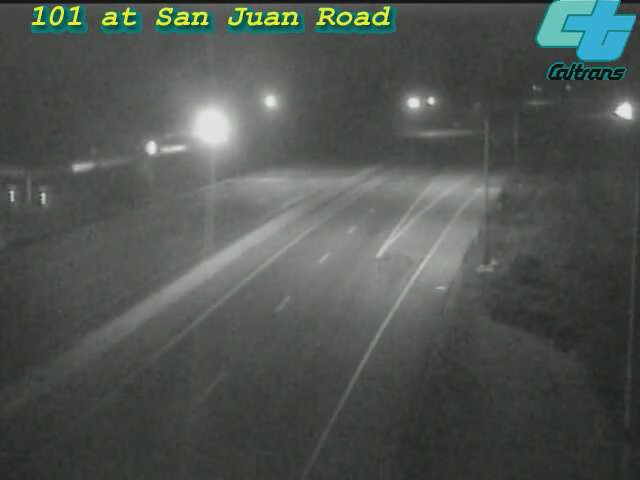vehicle: (599, 87, 640, 137)
